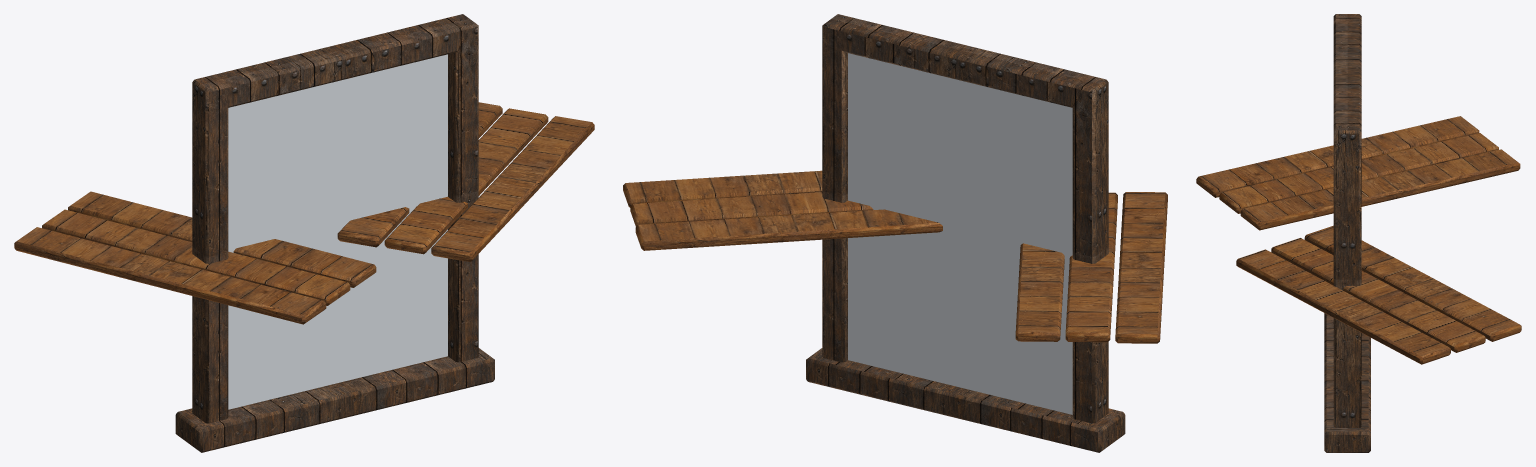
The model's file is shuttered-window-v01.glb.
The picture shows the model from 3 angles, left to right: view 1: azimuth 30°, elevation 25°; view 2: azimuth 150°, elevation 25°; view 3: azimuth 270°, elevation 25°; orthographic projection. The views are drawn at different scales.
Visible parts, largest first — view 1: shuttered-window; view 2: shuttered-window; view 3: shuttered-window.
Part boxes in pixels (x1,y1,x2,y2): shuttered-window: (14, 14, 594, 452); shuttered-window: (623, 14, 1167, 452); shuttered-window: (1196, 14, 1521, 452).
Size of the model in its own units: 2.45 by 1.5 by 1.39.
3 materials, 2 textured.
